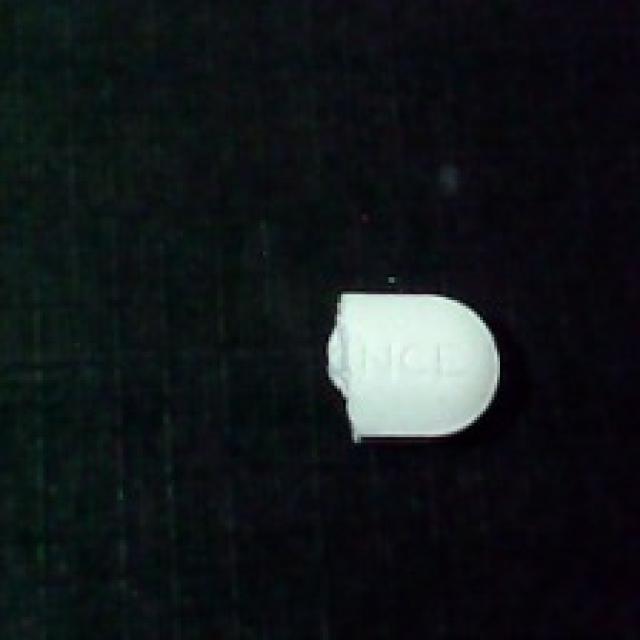defected: (323, 271, 514, 451)
